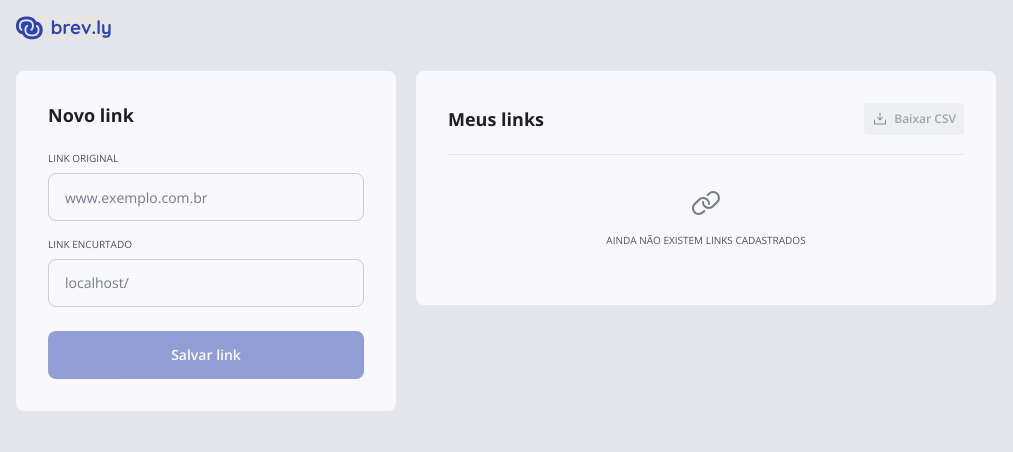
it: Página inicial › mostra duplicação no campo de encurtamento
The image size is (1013, 452).
In the field labelled "Link original": (206, 197) [48,173,364,221], type "https://example.com/curso"
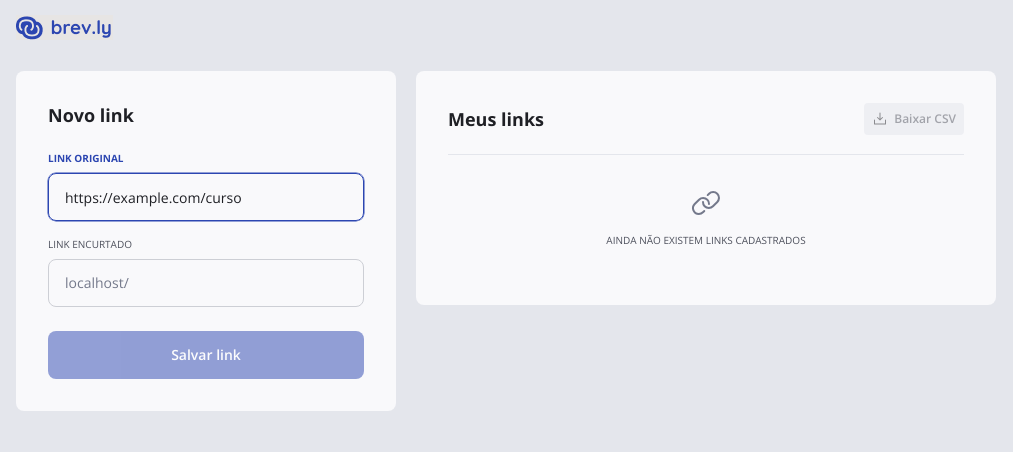
In the field labelled "Link encurtado": (246, 283) [129,260,363,306], type "curso"
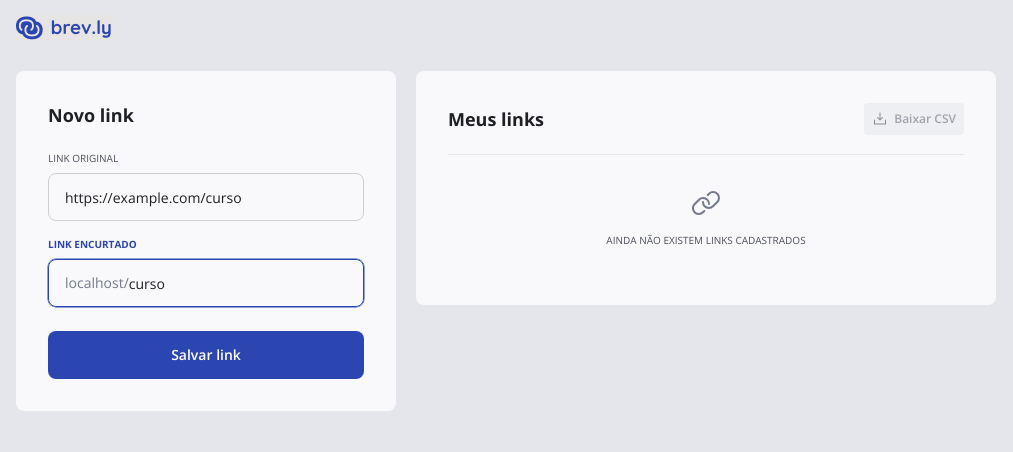
Click the button "Salvar link": (206, 355) [48,331,364,379]
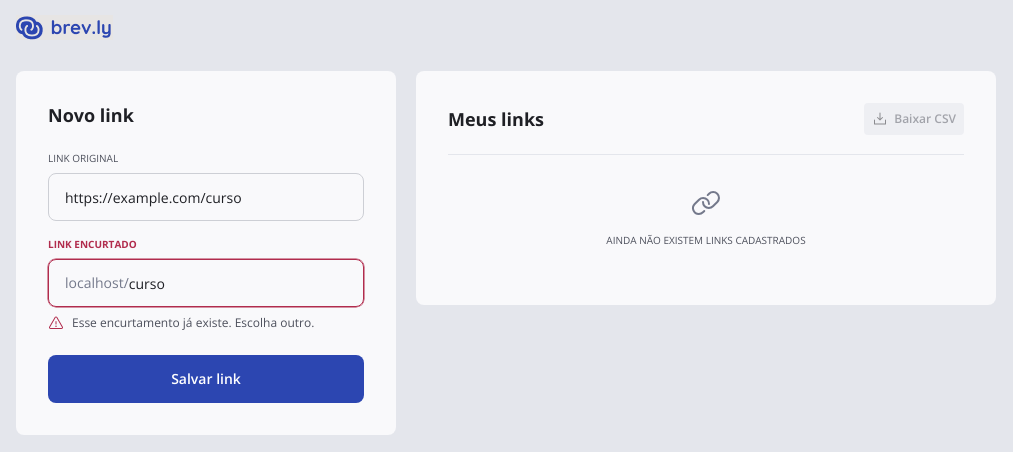
Expected: the text "Esse encurtamento já existe. Escolha outro." is shown, [48,314,314,331]
